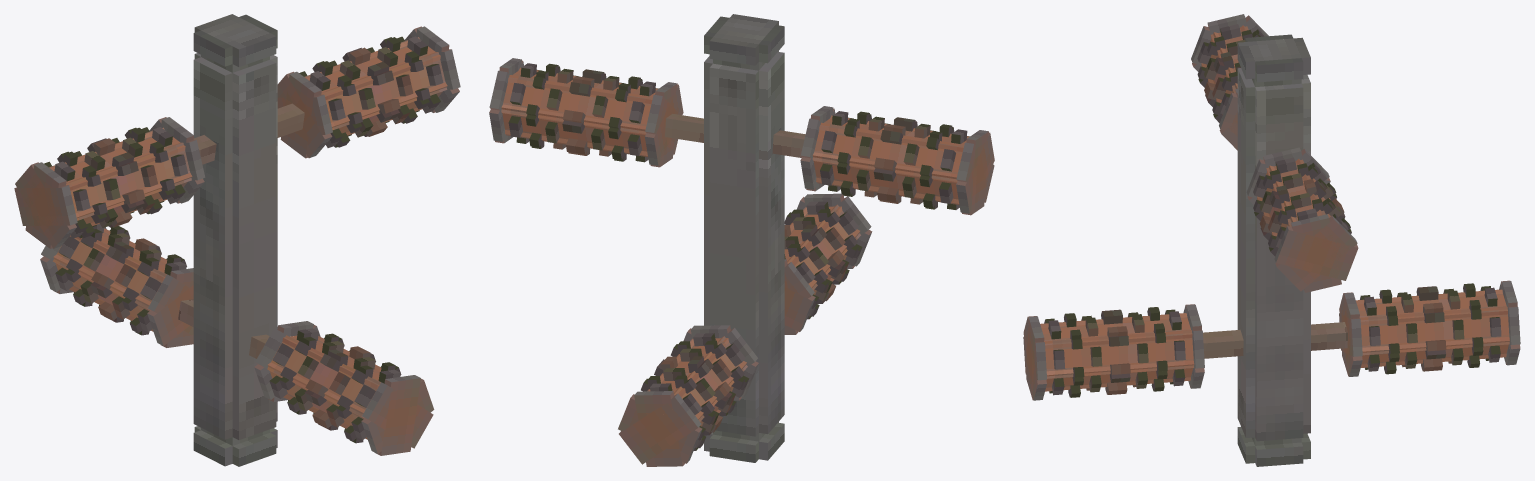
The model's file is trap-25_2.glb.
3 renders of one model, left to right at view 1: azimuth 30°, elevation 25°; view 2: azimuth 150°, elevation 25°; view 3: azimuth 270°, elevation 25°, orthographic. The views are drawn at different scales.
Visible parts, largest first — view 1: Log1-Local; view 2: Log1-Local; view 3: Log1-Local.
Boxes of the visible parts, bbox=[...] form: Log1-Local: bbox=[14, 14, 460, 466]; Log1-Local: bbox=[489, 14, 994, 466]; Log1-Local: bbox=[1023, 14, 1520, 466].
Size of the model in its own units: 1 by 0.891 by 1.
3 materials, 3 textured.
